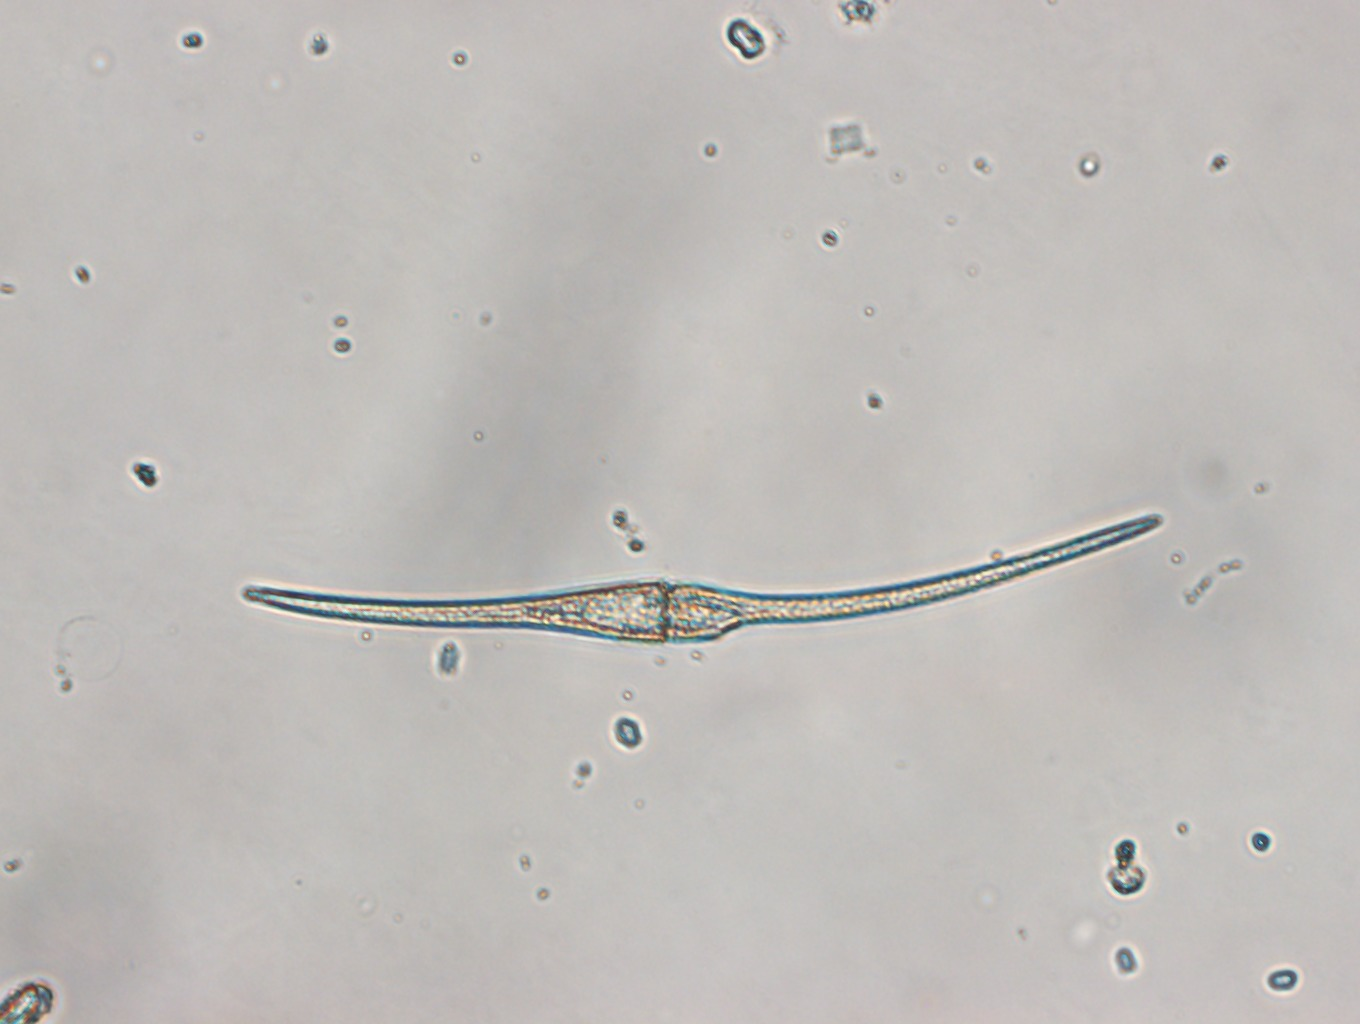ceratium fusus: (237, 508, 1164, 644)
